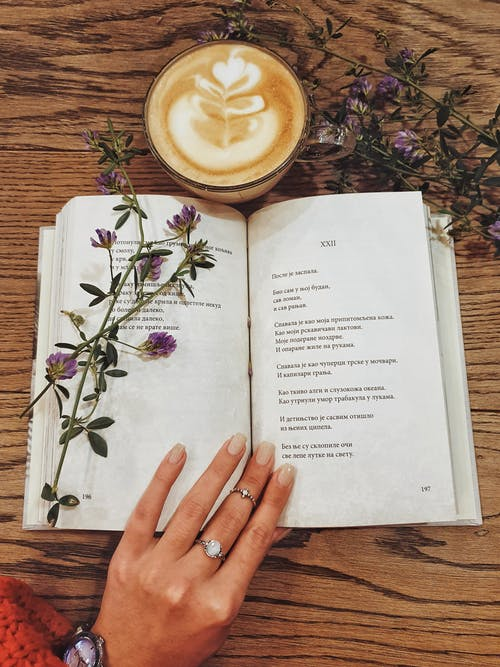Open Book: (34, 196, 488, 529)
